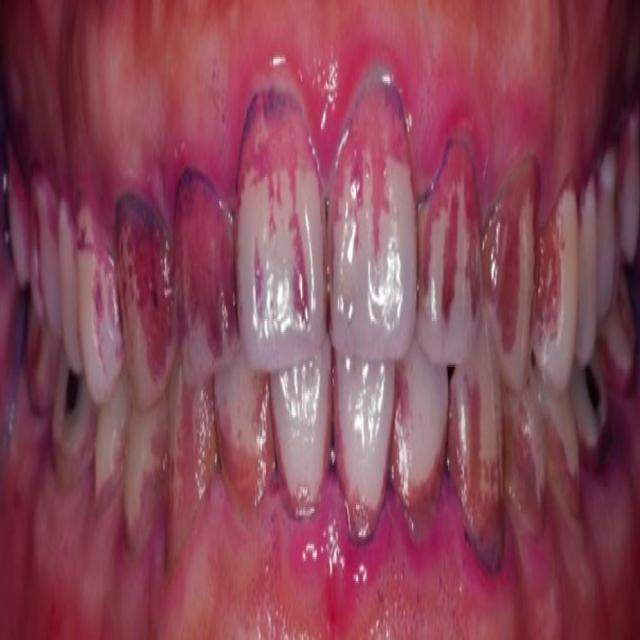1st Molar: (53, 364, 97, 482), (568, 362, 610, 476), (29, 173, 56, 325), (597, 152, 622, 309)
1st Premolar: (533, 183, 580, 393), (75, 201, 123, 406), (506, 371, 548, 539), (123, 413, 165, 564)
2nd Molar: (598, 274, 637, 400), (6, 160, 29, 280), (27, 330, 58, 415), (621, 124, 639, 261)
2nd Premolar: (94, 376, 128, 504), (548, 402, 583, 522), (576, 184, 598, 358), (57, 205, 77, 369)
Canine: (114, 194, 178, 415), (481, 160, 538, 393), (450, 363, 507, 577), (165, 378, 217, 574)
Central Incisor: (326, 70, 417, 361), (235, 89, 325, 373), (269, 337, 330, 524), (334, 361, 395, 537)
Lateral Incisor: (417, 133, 480, 369), (176, 170, 237, 384), (215, 337, 272, 516), (396, 350, 450, 527)
